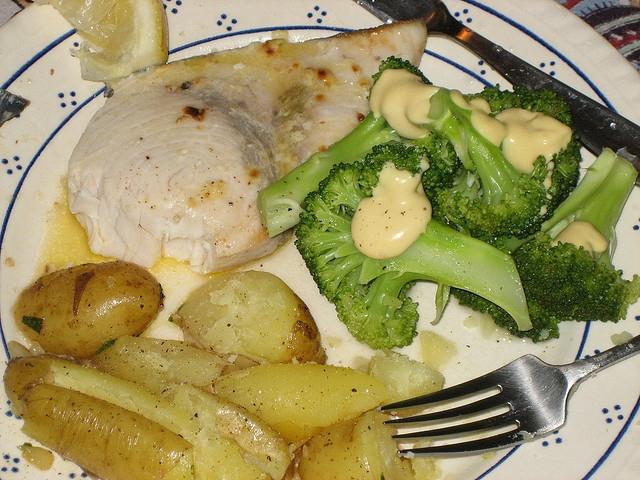broccoli: (295, 140, 532, 350), (450, 147, 640, 344), (256, 55, 432, 238), (408, 84, 582, 240)
lemon: (30, 0, 170, 83)
potato: (3, 354, 205, 444), (21, 384, 194, 478), (171, 269, 328, 365), (200, 364, 391, 442), (12, 260, 162, 359), (157, 383, 296, 480), (298, 410, 417, 480), (115, 334, 227, 387), (367, 349, 445, 418), (194, 428, 274, 480), (16, 444, 54, 470)
